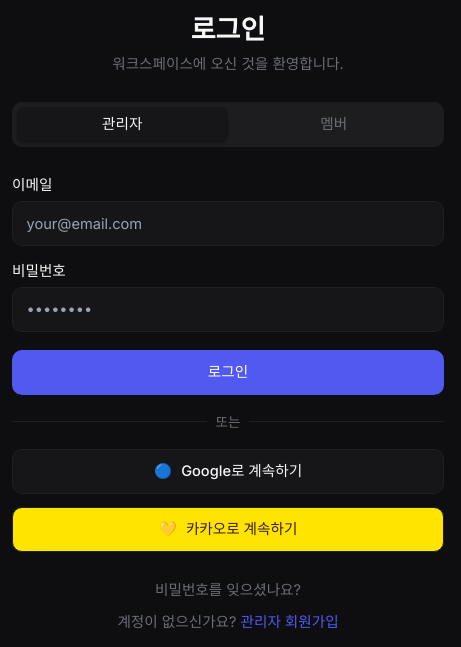
로그인 플로우 통합 테스트 › 멤버 탭 › 멤버 탭으로 전환하면 회원가입 링크가 변경됩니다
The width and height of the screenshot is (461, 647).
Click the tab "멤버". click: (334, 124)
box: [228,106,440,142]
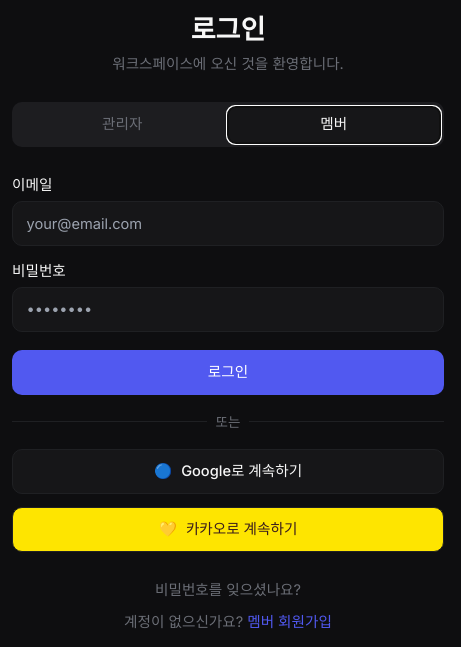
Check: the link "멤버 회원가입" is shown, box [247,612,332,630]
